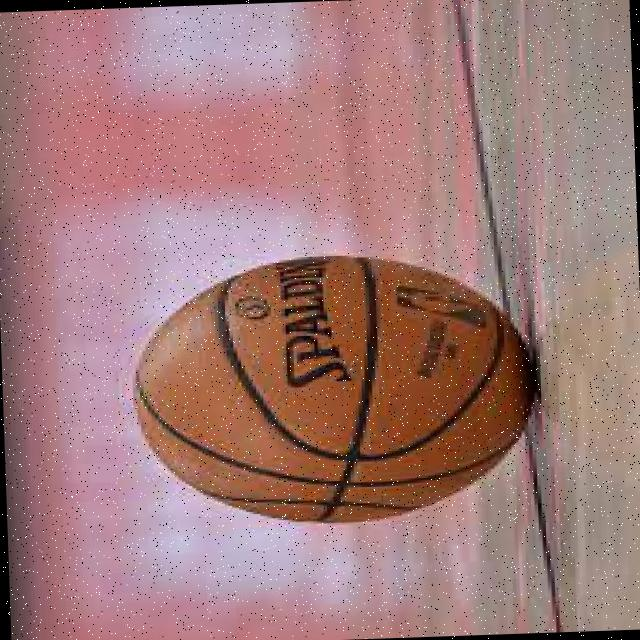ball: (129, 250, 536, 528)
